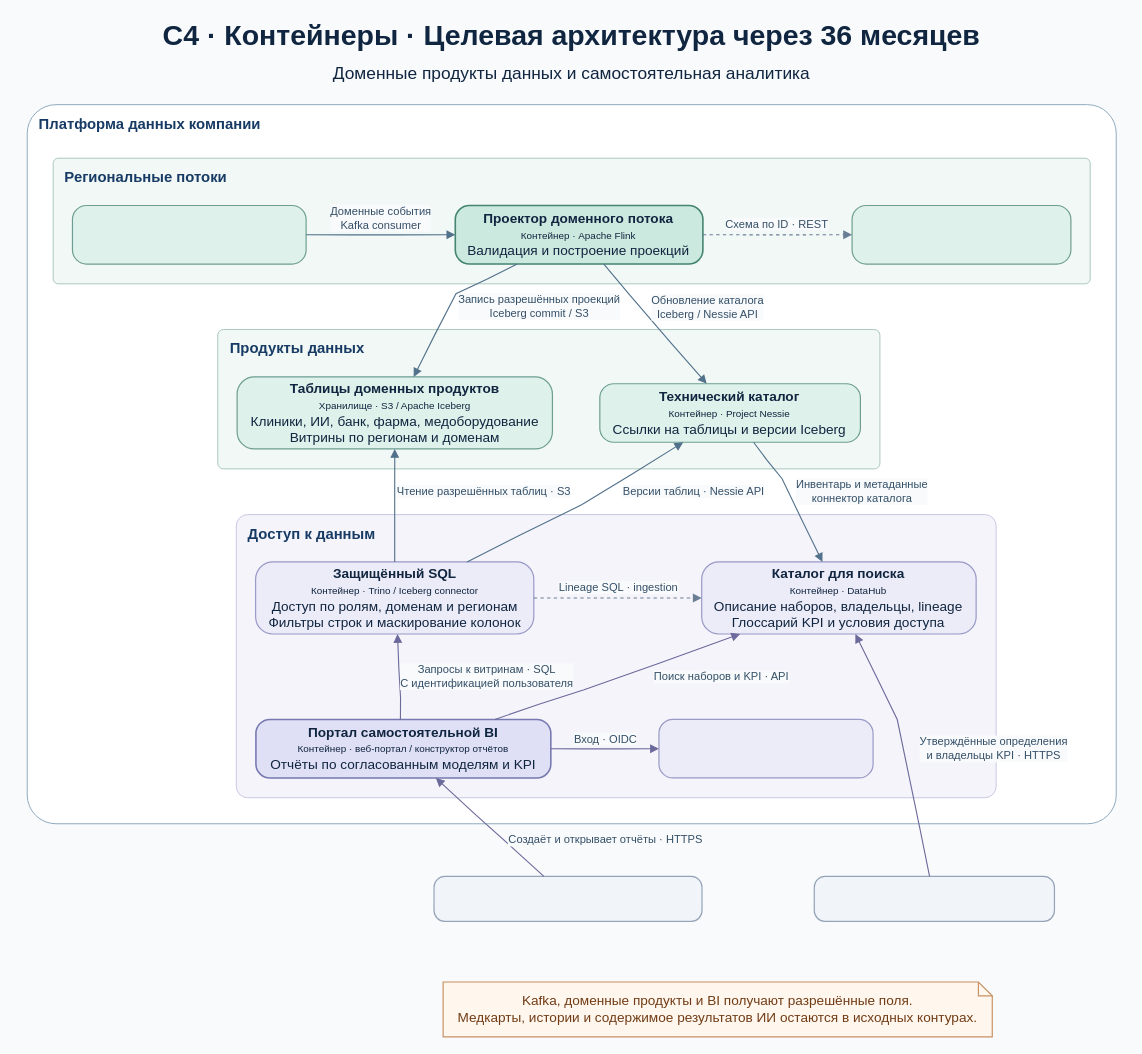
This 1142x1054 diagram has some shape labels left out. The centre of each missing label's shape, as x and y in pixels:
"Аналитики и владельцы продуктов Роли · поиск данных, отчёты и KPI" goes at point 567,898.
"Офис KPI Роль · методики, владельцы и версии метрик" goes at point 934,898.
"Провайдер идентификации Контейнер · корпоративный IdP Вход, группы, роли" goes at point 765,748.
"Реестр схем Контейнер · Schema Registry Разрешённые схемы и версии" goes at point 961,234.
"Шина событий Контейнер · Apache Kafka Темы по домену и региону · ACL" goes at point 188,234.
